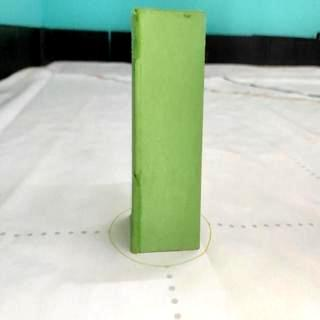greenbox: (130, 5, 206, 253)
